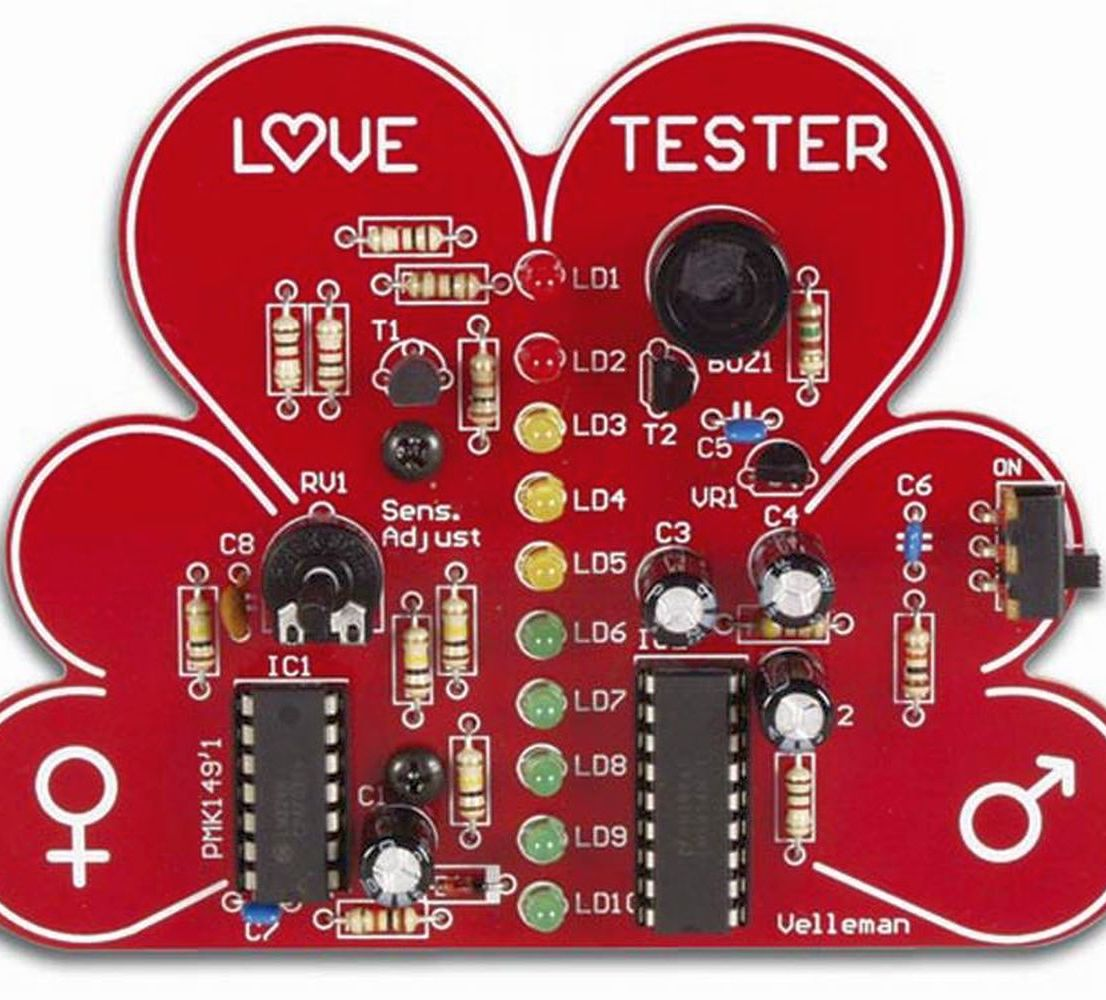Capacitor: (754, 648, 835, 754), (748, 526, 833, 627), (637, 548, 719, 648), (359, 807, 436, 907)
Diode: (434, 875, 491, 898)
LED: (518, 249, 565, 304), (519, 884, 570, 933), (515, 406, 567, 454), (518, 543, 568, 592), (519, 474, 568, 523), (518, 815, 567, 864), (519, 680, 567, 730), (522, 746, 569, 797), (518, 335, 565, 383), (520, 614, 566, 659)
Resistor: (461, 343, 498, 428), (183, 592, 219, 675), (896, 622, 933, 702), (269, 312, 305, 394), (791, 295, 826, 378), (397, 268, 485, 301), (399, 624, 436, 701), (340, 903, 426, 936), (783, 757, 816, 842), (454, 741, 489, 821), (312, 313, 346, 392), (361, 223, 452, 252), (439, 596, 473, 671), (751, 617, 831, 641)
